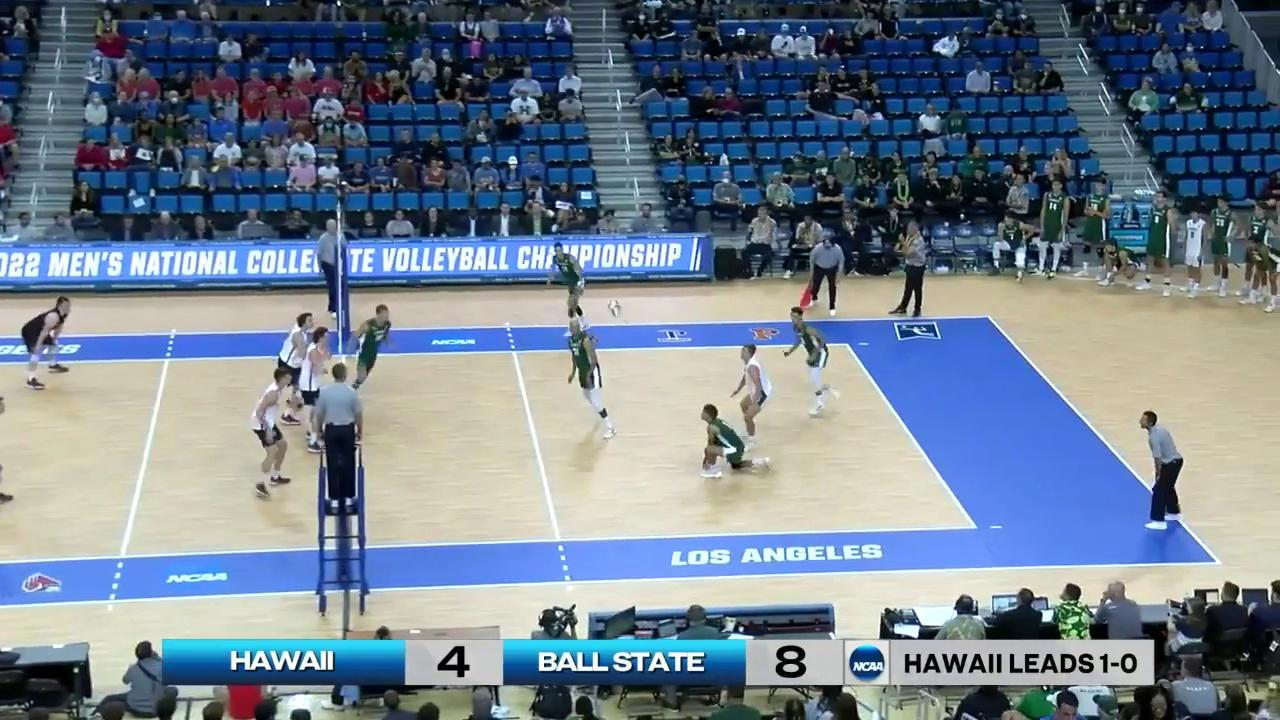player: (566, 313, 615, 440), (252, 366, 297, 500), (787, 308, 838, 416), (730, 344, 775, 459), (699, 404, 766, 481), (19, 296, 72, 389), (272, 310, 312, 428), (345, 307, 393, 395), (549, 244, 591, 336), (303, 327, 330, 453)
refree: (314, 364, 364, 512), (1138, 410, 1185, 532), (804, 237, 846, 314), (318, 219, 349, 314)
